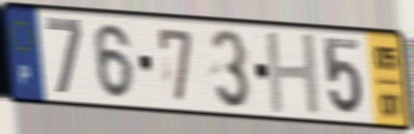3: (207, 26, 254, 112)
5: (319, 35, 366, 119)
6: (91, 21, 136, 101)
7: (42, 14, 86, 99), (154, 27, 194, 104)
H: (262, 31, 324, 117)
